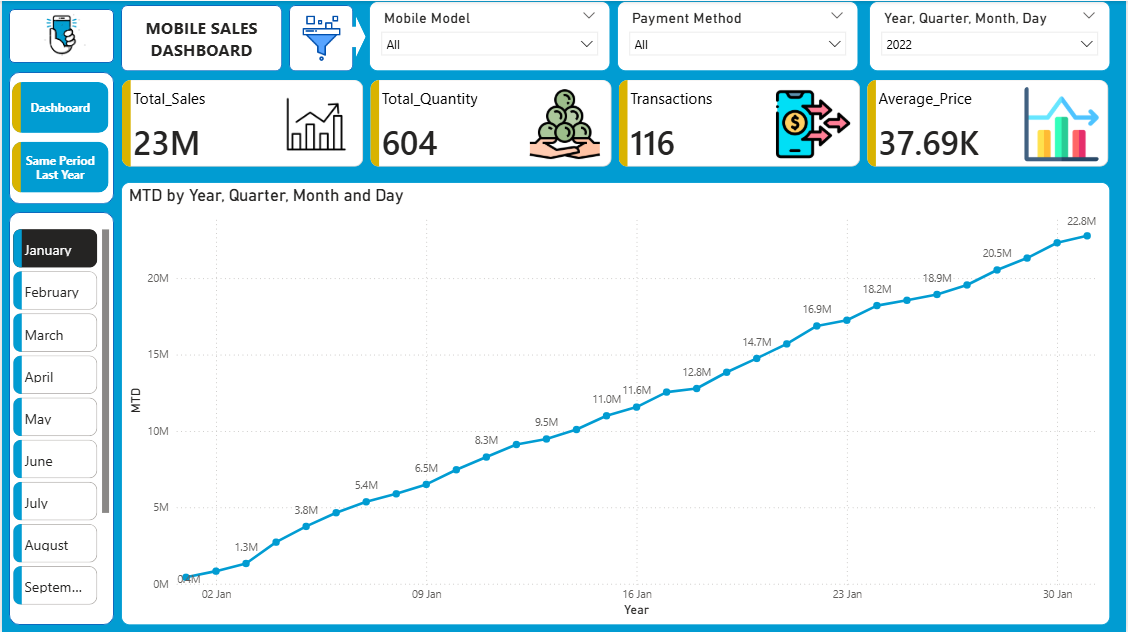

Layout of this report page (visuals, bound fields, positions):
{"tool":"powerbi","page":{"name":"MTD Report","canvas":[1280,720],"ordinal":1},"visuals":[{"type":"shape","box":[8,9.1,119.6,61.5],"z":0},{"type":"image","box":[32.6,9,69.8,61.9],"z":1000},{"type":"shape","box":[8,80.9,119.6,150.4],"z":2000},{"type":"shape","box":[8,240.4,119.6,470.5],"z":3000},{"type":"advancedSlicerVisual","fields":{"Values":["Custom_Calendar.Date.Variation.Date Hierarchy.Month"]},"box":[7.9,255.5,119.3,443.6],"z":4000},{"type":"cardVisual","fields":{"Data":["Sales_Data.Total_Sales","Sales_Data.Total_Quantity","Sales_Data.Transactions","Sales_Data.Average_Price"]},"box":[127.2,81.1,1144.9,117.1],"z":5000},{"type":"slicer","fields":{"Values":["Sales_Data.Mobile Model"]},"box":[417.7,0,274.7,79.9],"z":6000},{"type":"slicer","fields":{"Values":["Sales_Data.Payment Method"]},"box":[700.2,0,274.7,79.9],"z":7000},{"type":"slicer","fields":{"Values":["Custom_Calendar.Date.Variation.Date Hierarchy.Year","Custom_Calendar.Date.Variation.Date Hierarchy.Quarter","Custom_Calendar.Date.Variation.Date Hierarchy.Month","Custom_Calendar.Date.Variation.Date Hierarchy.Day"]},"box":[987.3,0,274.7,79.9],"z":8000},{"type":"shape","box":[326.5,4.5,73.2,75.4],"z":9000},{"type":"image","box":[331,15.8,65.3,52.9],"z":10000},{"type":"shape","box":[391.8,16.9,22.5,47.3],"z":11000},{"type":"shape","box":[135.1,4.5,183.5,75.4],"z":12000},{"type":"textbox","box":[140.7,12.4,172.2,60.8],"z":13000},{"type":"lineChart","fields":{"Y":["Sales_Data.MTD"],"Category":["Custom_Calendar.Date.Variation.Date Hierarchy.Year","Custom_Calendar.Date.Variation.Date Hierarchy.Quarter","Custom_Calendar.Date.Variation.Date Hierarchy.Month","Custom_Calendar.Date.Variation.Date Hierarchy.Day"]},"box":[135.6,206.2,1126.7,504.7],"z":14000},{"type":"pageNavigator","box":[11.4,92.3,110.5,127.6],"z":15000}]}

Visuals, with their boxes in screenshot pixels (x1, y1, x2, y2), scaled from the page's 1280x720 canvas onto the 1128x632 screenshot:
shape: x1=7, y1=8, x2=112, y2=62
image: x1=29, y1=8, x2=90, y2=62
shape: x1=7, y1=71, x2=112, y2=203
shape: x1=7, y1=211, x2=112, y2=624
advancedSlicerVisual - Custom_Calendar.Date.Variation.Date Hierarchy.Month: x1=7, y1=224, x2=112, y2=614
cardVisual - Sales_Data.Total_Sales x Sales_Data.Total_Quantity: x1=112, y1=71, x2=1121, y2=174
slicer - Sales_Data.Mobile Model: x1=368, y1=0, x2=610, y2=70
slicer - Sales_Data.Payment Method: x1=617, y1=0, x2=859, y2=70
slicer - Custom_Calendar.Date.Variation.Date Hierarchy.Year x Custom_Calendar.Date.Variation.Date Hierarchy.Quarter: x1=870, y1=0, x2=1112, y2=70
shape: x1=288, y1=4, x2=352, y2=70
image: x1=292, y1=14, x2=349, y2=60
shape: x1=345, y1=15, x2=365, y2=56
shape: x1=119, y1=4, x2=281, y2=70
textbox: x1=124, y1=11, x2=276, y2=64
lineChart - Sales_Data.MTD x Custom_Calendar.Date.Variation.Date Hierarchy.Year: x1=119, y1=181, x2=1112, y2=624
pageNavigator: x1=10, y1=81, x2=107, y2=193
